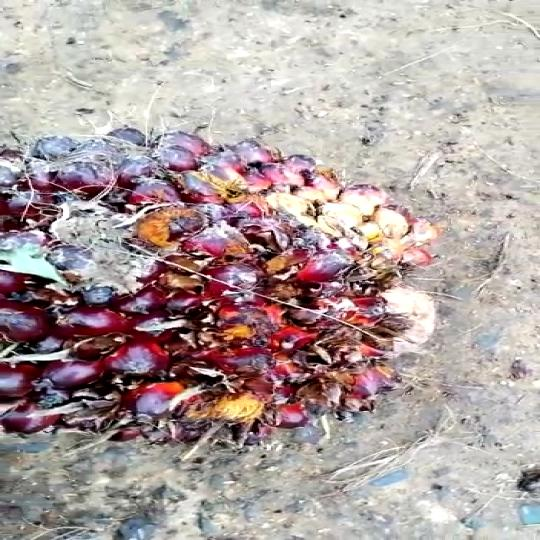masak: (0, 112, 459, 440)
